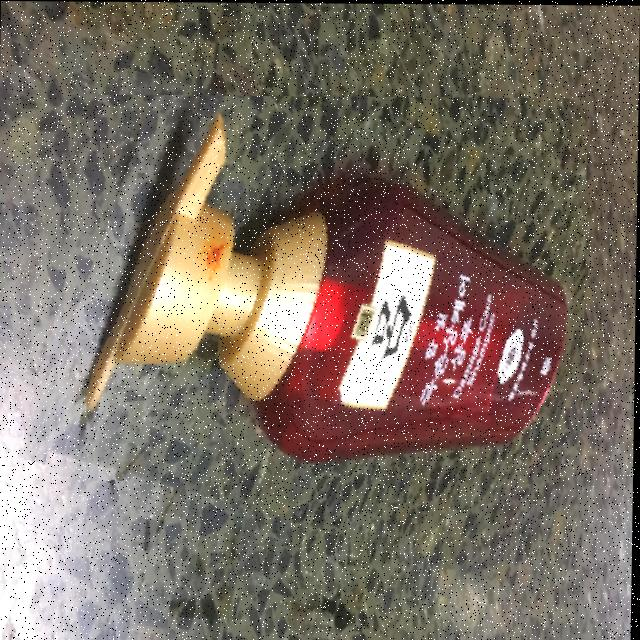plasticbottle: (38, 93, 587, 553)
plasticbottlecap: (61, 146, 201, 491)
